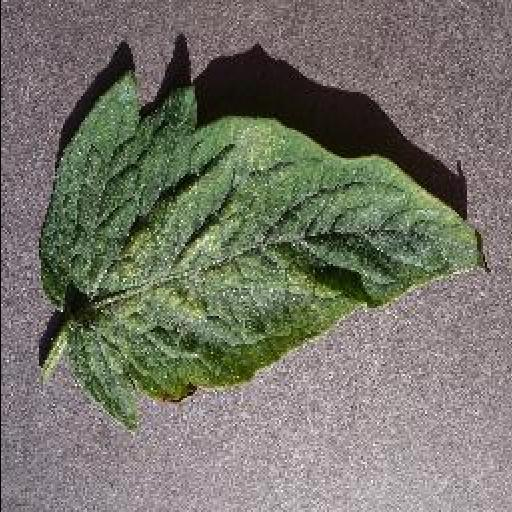disease_tomato: (38, 70, 492, 435)
